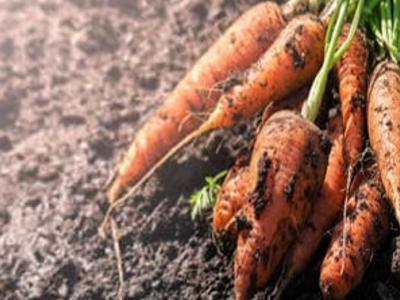carrot: (101, 0, 380, 216), (212, 18, 400, 297)
